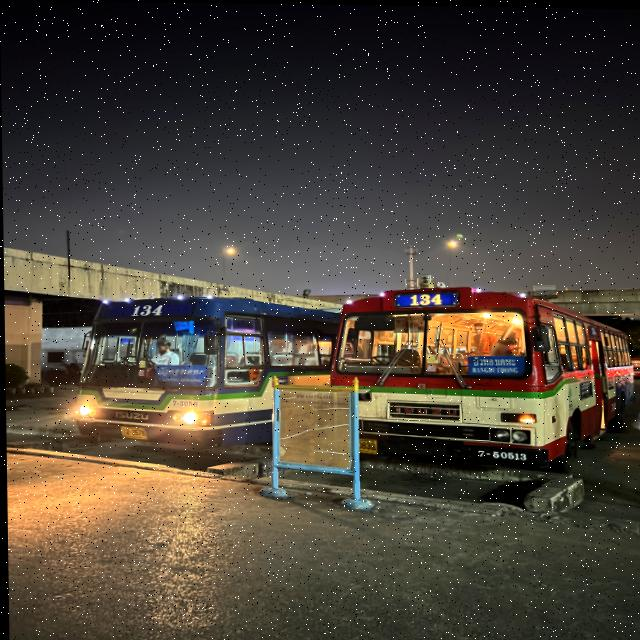BMTA-bus: (329, 282, 633, 511), (75, 295, 339, 450)
Bus-Line-Number: (402, 292, 450, 306), (129, 301, 163, 317)
Destination-Sign-Normal: (153, 362, 208, 386), (467, 354, 529, 375)
